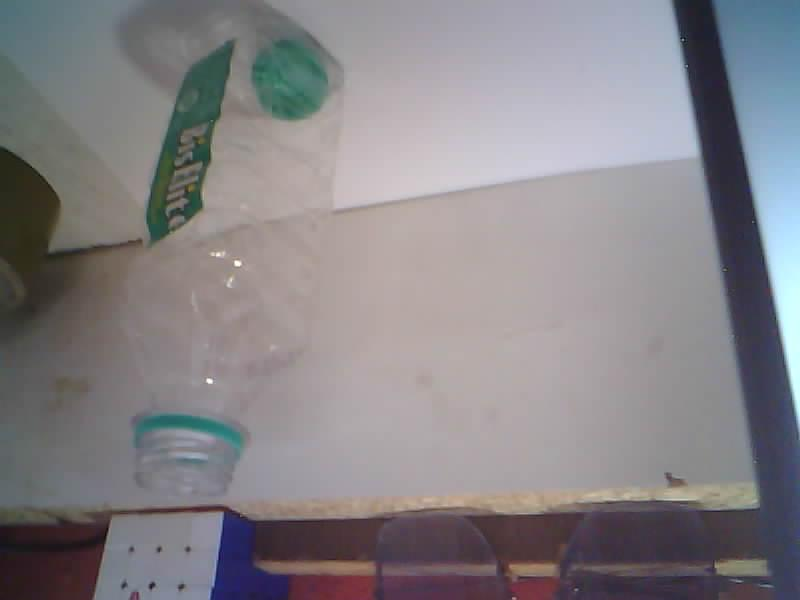non-biodegradable: (125, 2, 341, 495)
